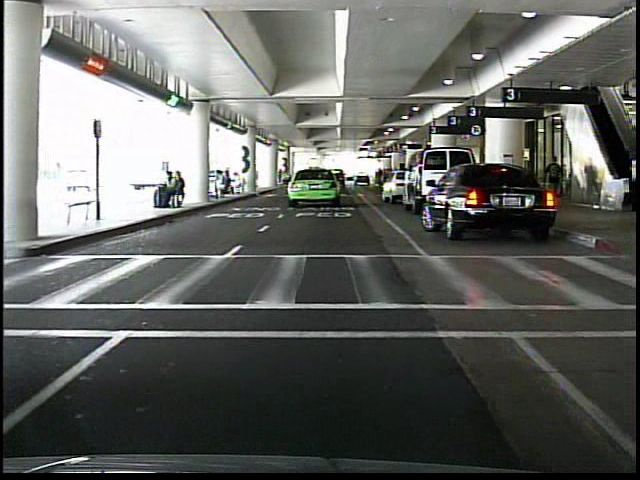person: (546, 152, 566, 187)
